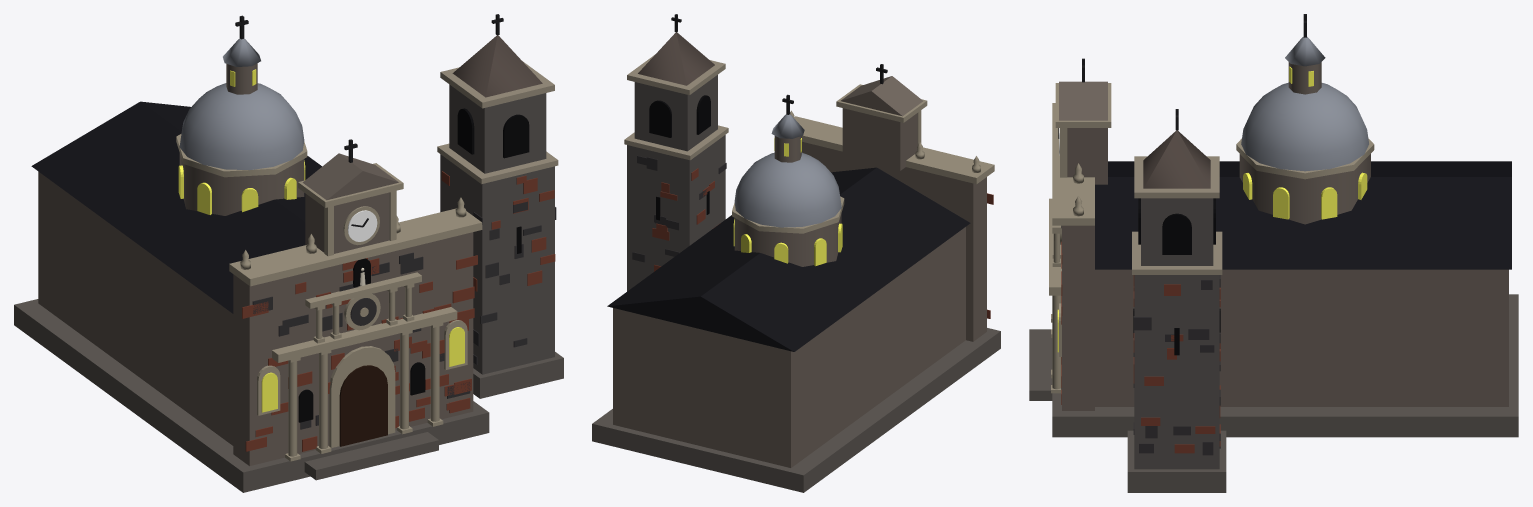
Rendered from iglesia.obj.
3 renders of one model, left to right at view 1: azimuth 30°, elevation 25°; view 2: azimuth 150°, elevation 25°; view 3: azimuth 270°, elevation 25°, orthographic. The views are drawn at different scales.
Visible parts, largest first — view 1: iglesia; view 2: iglesia; view 3: iglesia.
Part boxes in pixels (x1=…): iglesia: x1=14, y1=14, x2=563, y2=492; iglesia: x1=592, y1=14, x2=1000, y2=492; iglesia: x1=1029, y1=14, x2=1518, y2=492.
Size of the model in its own units: 12.8 by 12.17 by 14.9.
